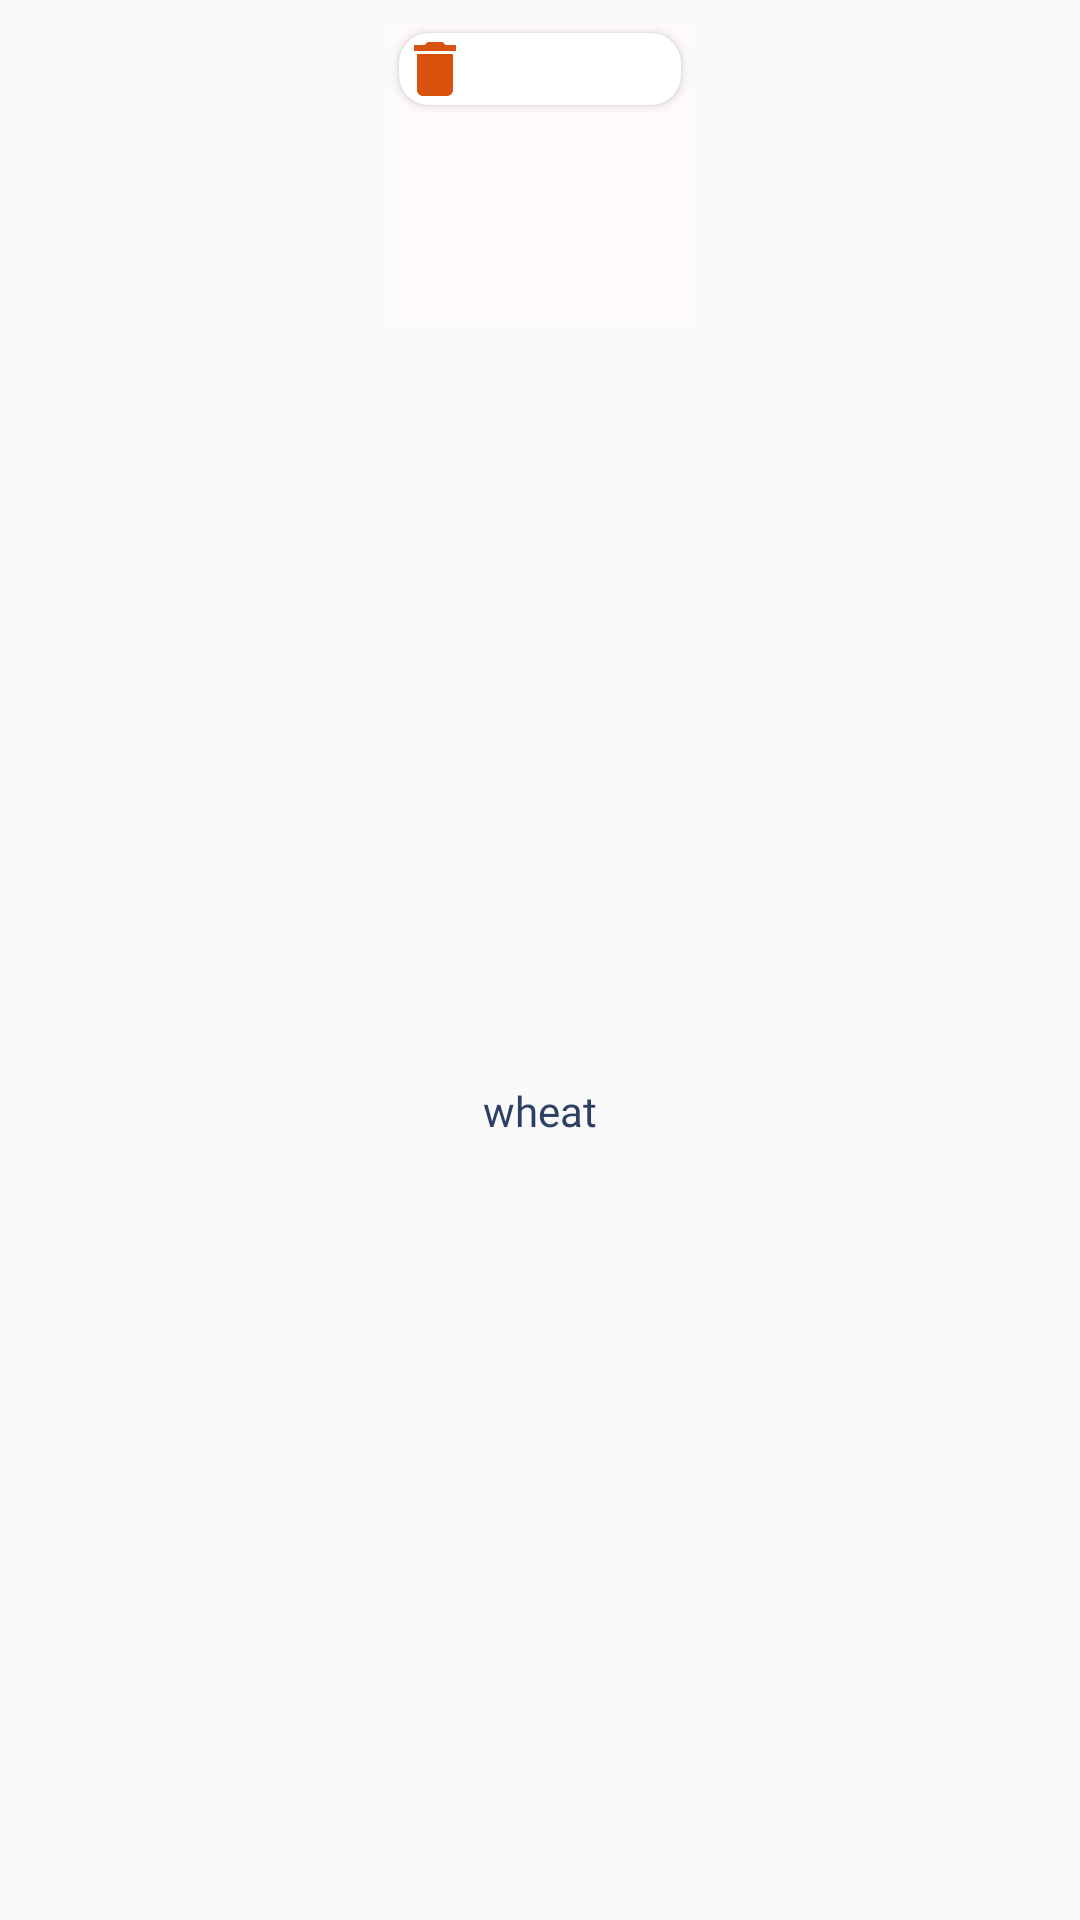

Point at icon controls on the screen. Image size 1080x1920, points as point (x, y).
delete: point (434, 64)
